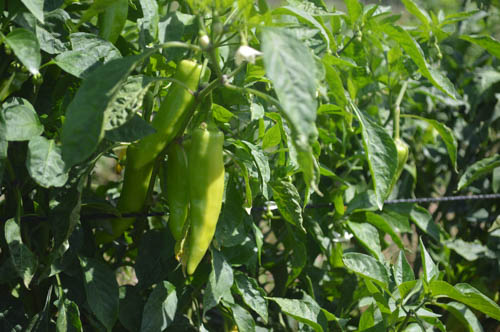ChiliPepper: (128, 61, 210, 163), (185, 130, 224, 270), (98, 145, 151, 240), (160, 147, 190, 237)
